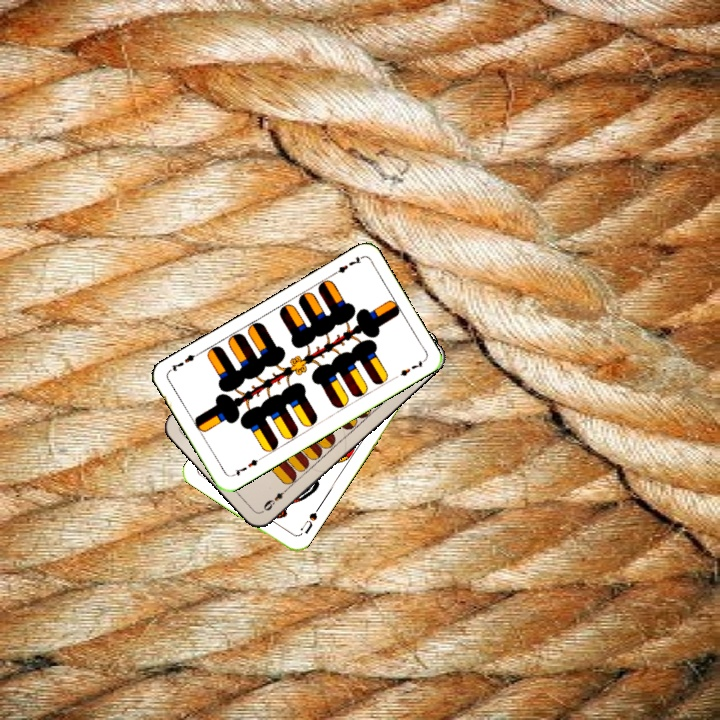E7: (228, 453, 265, 479), (327, 253, 364, 279)
E9: (258, 483, 291, 514)
SU: (296, 502, 322, 536)
